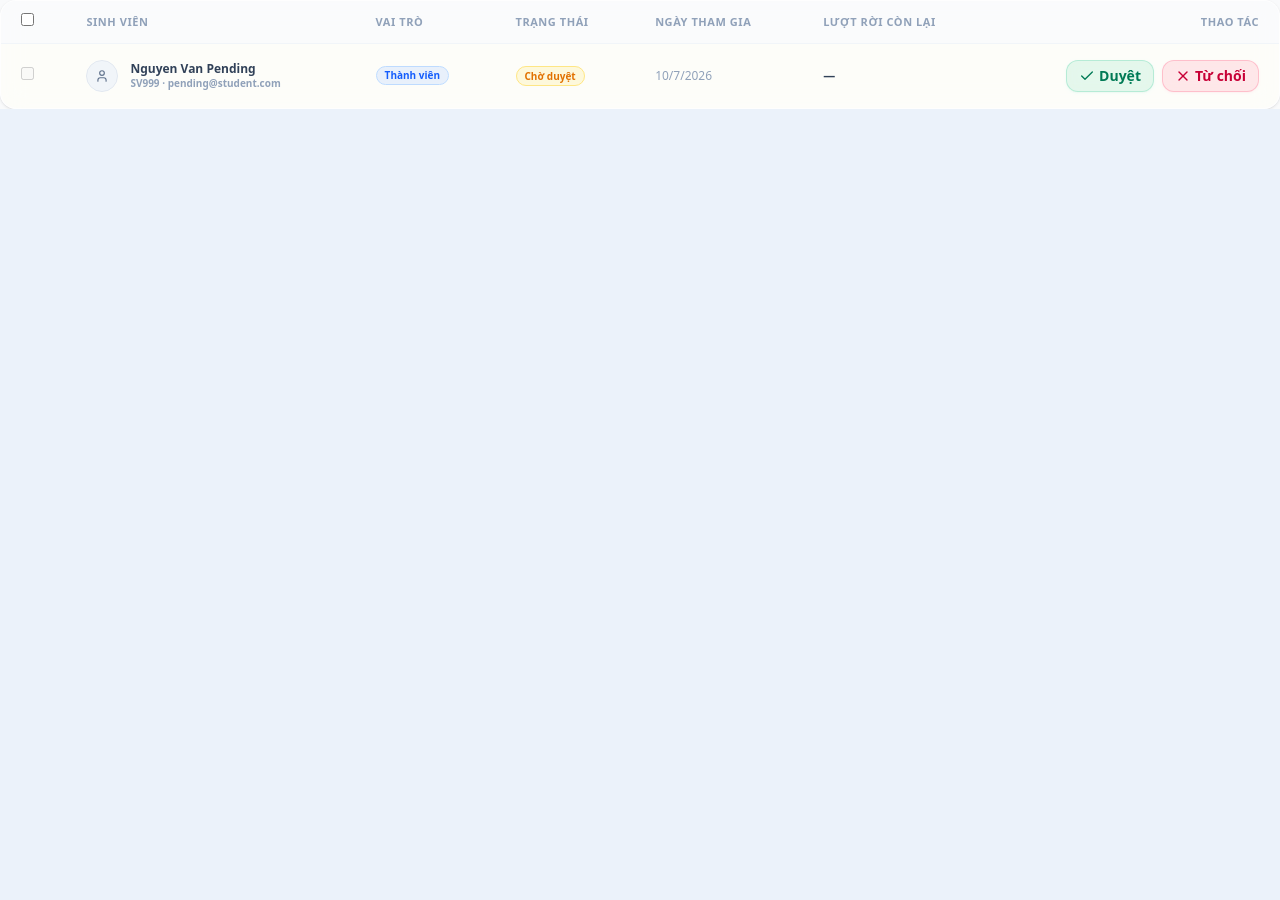
ActivityMemberTable - ConfirmModal Integration › Reject member flow with ConfirmModal › opens ConfirmModal on clicking the Reject button
Click the button "Từ chối": (1210, 76) [1162,60,1259,92]
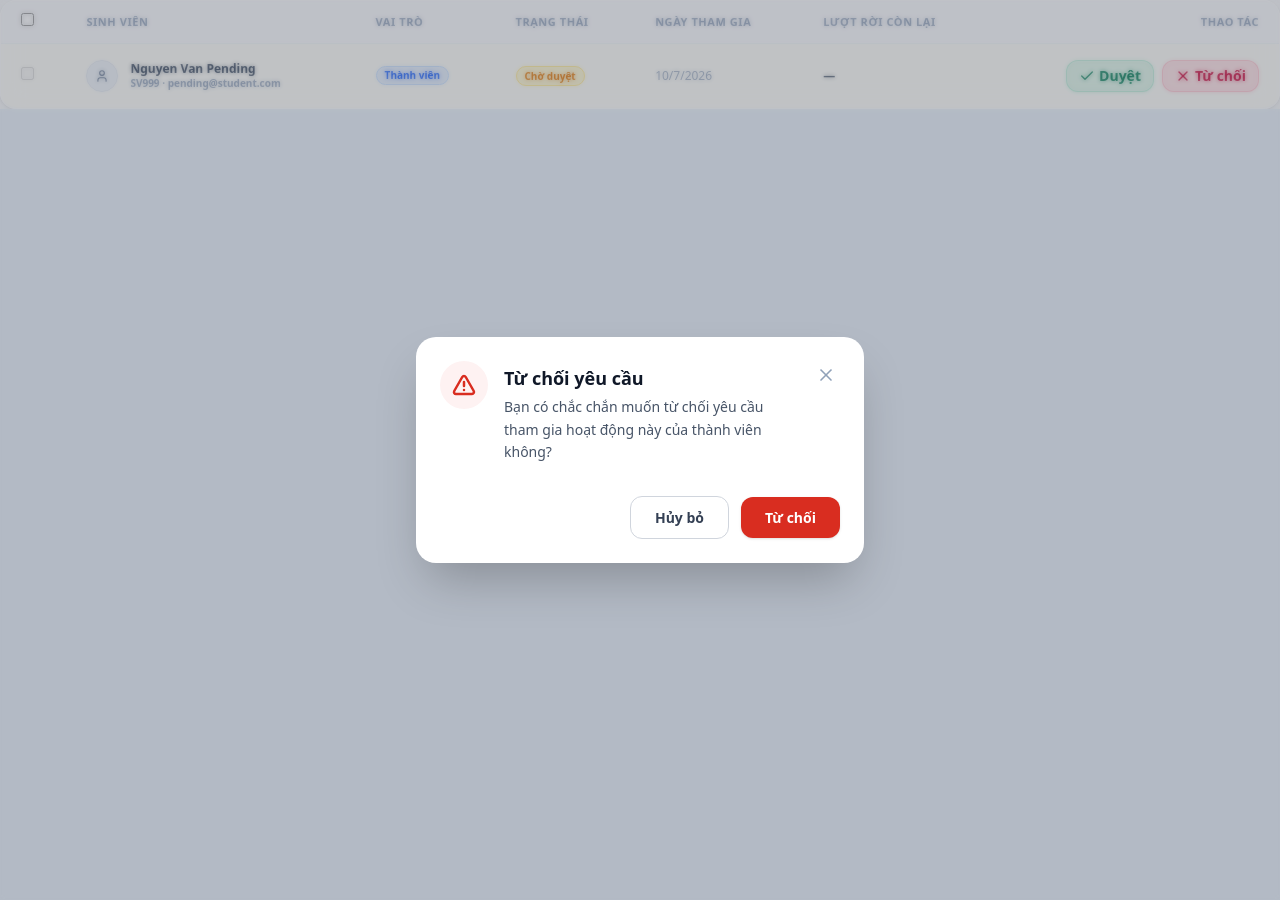
Expected: the heading "Từ chối yêu cầu" is shown, [504,366,644,390]
Expected: the text "Bạn có chắc chắn muốn từ chối yêu cầu tham gia hoạt động này của thành viên không?" is shown, [504,397,764,461]
